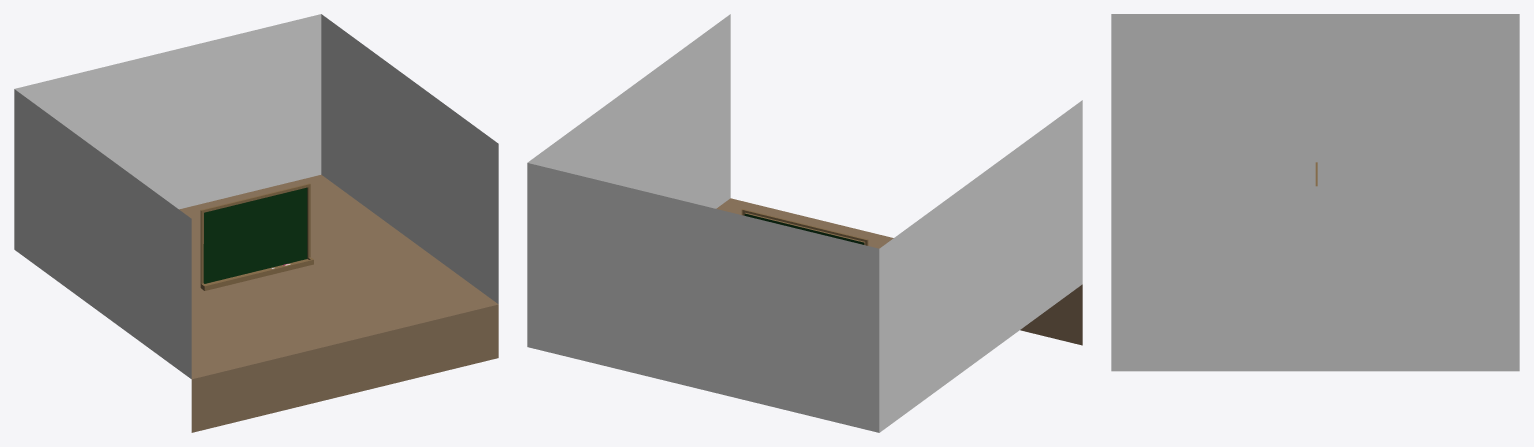
Rendered from BlackBoard.fbx.
3 renders of one model, left to right at view 1: azimuth 30°, elevation 25°; view 2: azimuth 150°, elevation 25°; view 3: azimuth 270°, elevation 25°, orthographic. The views are drawn at different scales.
Parts seen in each view (by area): view 1: Cube, BlackBoard; view 2: Cube, BlackBoard; view 3: Cube.
Boxes of the visible parts, <box> form: Cube: <box>14,14,498,432</box>; BlackBoard: <box>200,183,313,290</box>; Cube: <box>527,14,1082,432</box>; BlackBoard: <box>741,209,868,245</box>; Cube: <box>1111,14,1519,371</box>.
Size of the model in its own units: 6 by 4 by 6.
